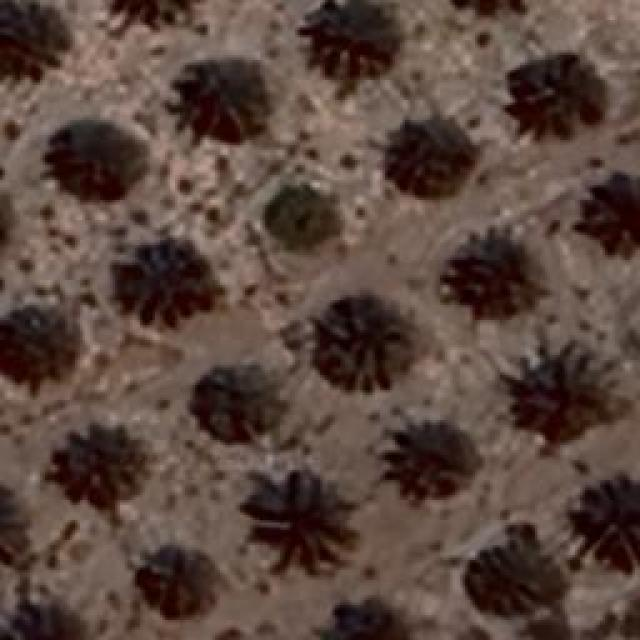PalmTree: (71, 65, 306, 215), (21, 82, 71, 521), (245, 470, 360, 575), (508, 338, 610, 426), (190, 64, 290, 148), (316, 300, 396, 398), (0, 0, 70, 92), (192, 362, 272, 442), (318, 0, 398, 80), (59, 128, 142, 204), (462, 540, 548, 612), (396, 107, 466, 195), (130, 245, 218, 315), (0, 311, 78, 389), (577, 483, 640, 578), (518, 61, 606, 129), (54, 427, 136, 495), (445, 238, 523, 306), (391, 425, 464, 490), (138, 554, 216, 614), (100, 0, 202, 31), (595, 182, 640, 252), (1, 589, 71, 629), (332, 600, 398, 640), (446, 0, 530, 19), (442, 0, 532, 14), (443, 0, 532, 10), (0, 179, 10, 266)
